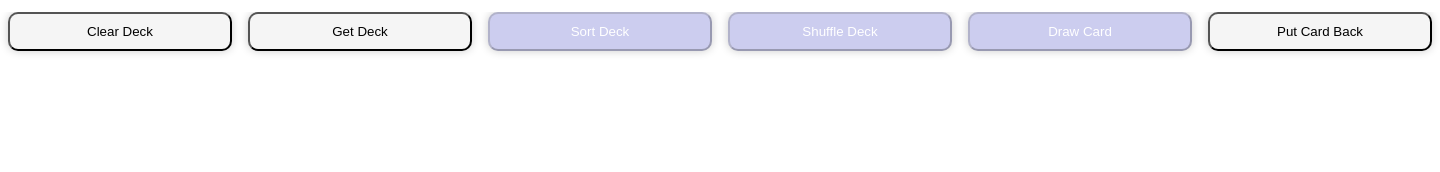
Test: will correctly enable the buttons when a deck is gotten
The image size is (1440, 172).
Check: the button "Shuffle Deck" is disabled, box [728,12,952,51]
Check: the button "Draw Card" is disabled, box [968,12,1192,51]
Click the button "Get Deck". click: (360, 32)
box: [248,12,472,51]
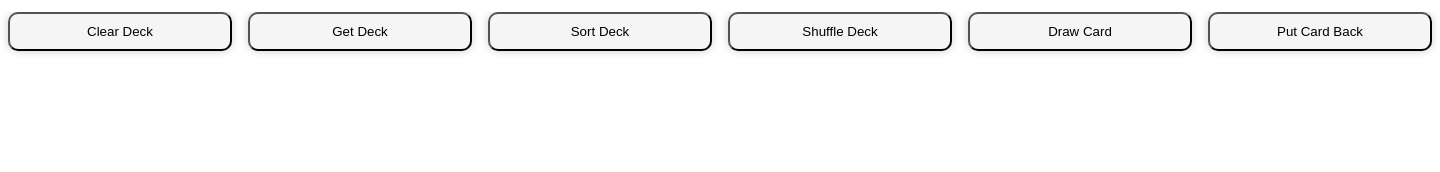
Check: the button "Shuffle Deck" is enabled, box [728,12,952,51]
Check: the button "Draw Card" is enabled, box [968,12,1192,51]
